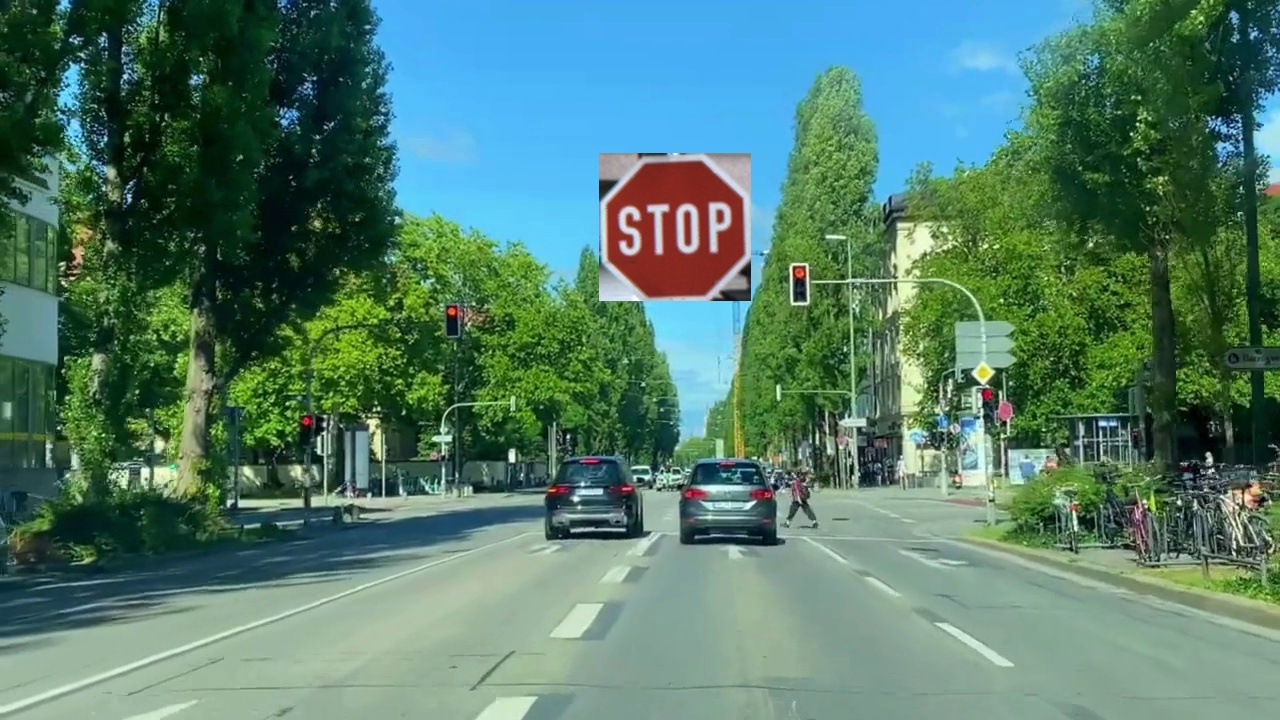Stop: (599, 153, 751, 301)
